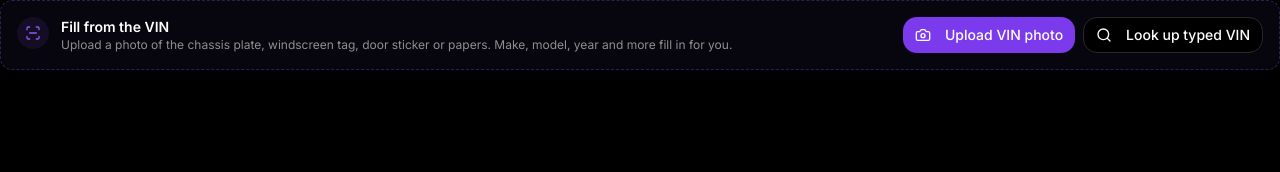
Test: VinScanner › decodes the typed VIN, hands the result to the form and shows what it found
The width and height of the screenshot is (1280, 172).
Click the button "Look up typed VIN" at (1173, 35), box [1083, 17, 1263, 53]
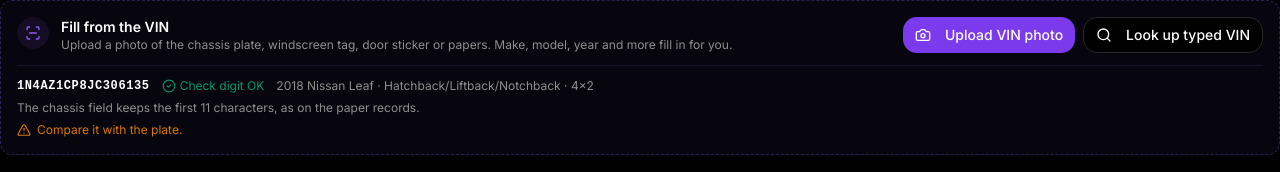
Check: the text "1N4AZ1CP8JC306135" is shown, box [17, 78, 150, 94]
Check: the text "2018 Nissan Leaf · Hatchback/Liftback/Notchback · 4x2" is shown, box [276, 78, 594, 94]
Check: the text "Check digit OK" is shown, box [162, 78, 264, 94]
